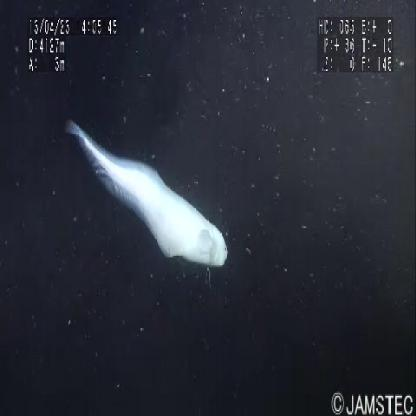Bio: (61, 114, 230, 290)
